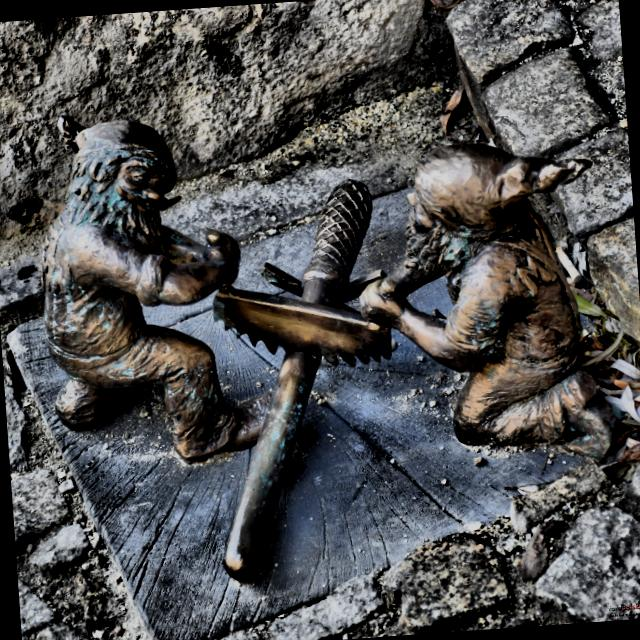Wyrostek i Zadymek: (43, 118, 618, 579)
